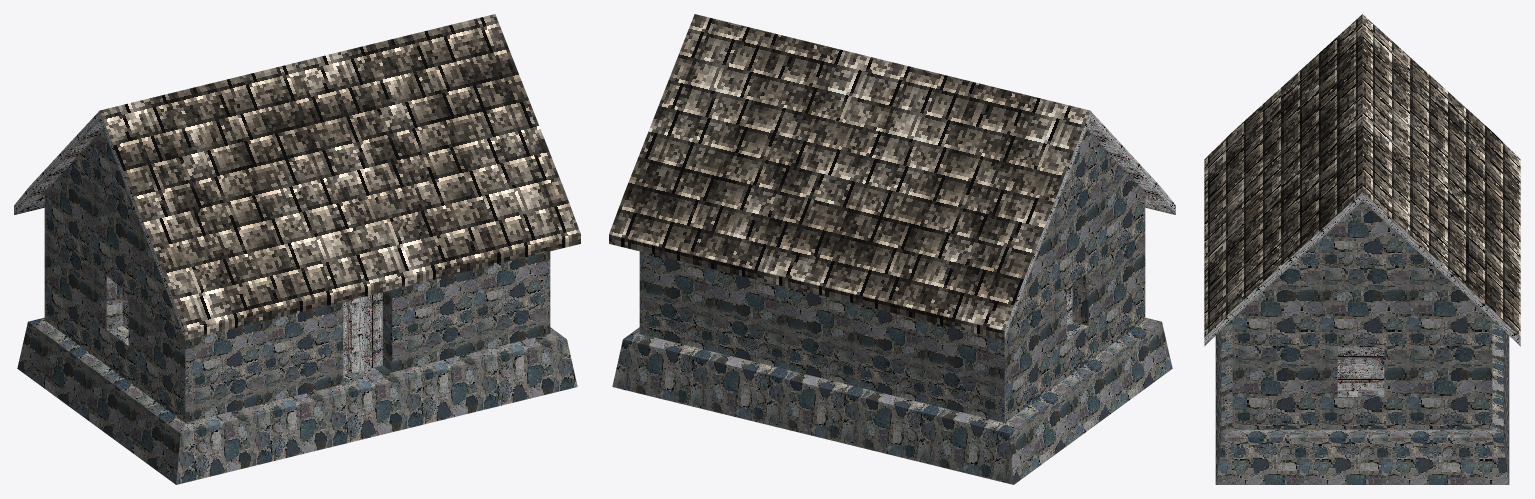
File: House_1.fbx
3 renders of one model, left to right at view 1: azimuth 30°, elevation 25°; view 2: azimuth 150°, elevation 25°; view 3: azimuth 270°, elevation 25°, orthographic. The views are drawn at different scales.
Parts seen in each view (by area): view 1: House_1; view 2: House_1; view 3: House_1.
Boxes of the visible parts, bbox=[...] form: House_1: bbox=[14, 14, 580, 484]; House_1: bbox=[609, 14, 1175, 484]; House_1: bbox=[1204, 14, 1520, 484].
Size of the model in its own units: 660 by 495 by 487.
